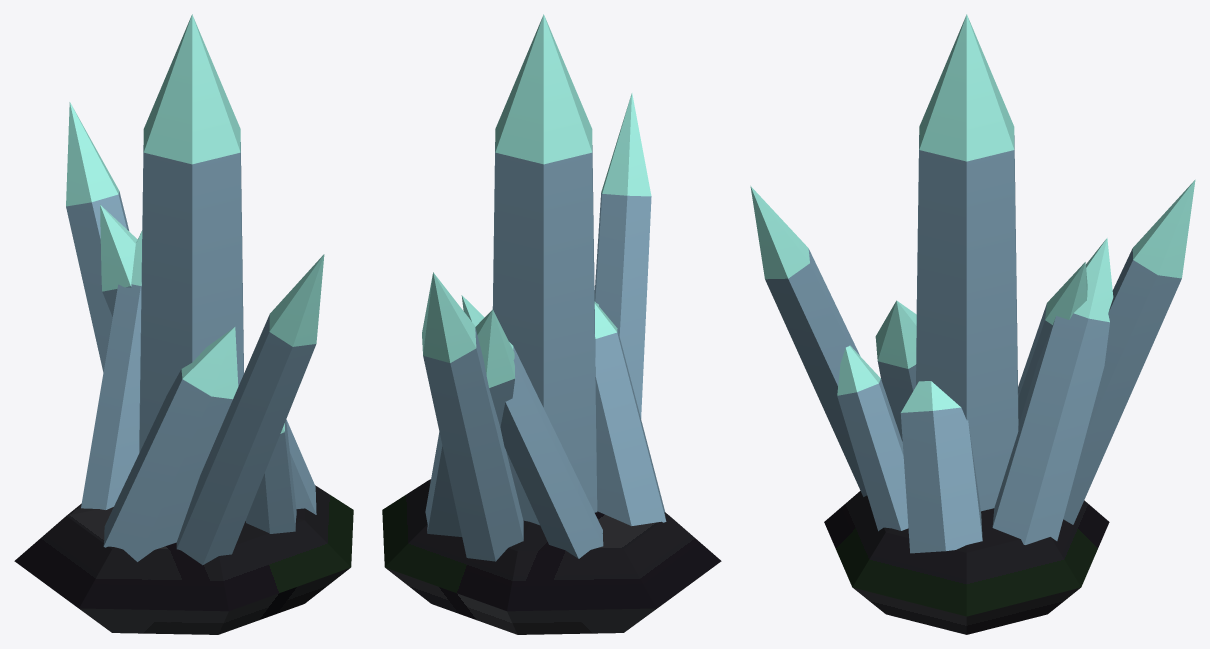
File: ice_crystal_cluster.glb
3 views of the same model, side by side, from view 1: azimuth 30°, elevation 25°; view 2: azimuth 150°, elevation 25°; view 3: azimuth 270°, elevation 25° (orthographic).
Parts seen in each view (by area): view 1: ice_crystal_cluster; view 2: ice_crystal_cluster; view 3: ice_crystal_cluster.
Part boxes in pixels (x1,y1,x2,y2): ice_crystal_cluster: [14, 14, 353, 634]; ice_crystal_cluster: [382, 14, 721, 634]; ice_crystal_cluster: [750, 14, 1195, 634].
Size of the model in its own units: 1.14 by 2.11 by 1.46.
3 materials, 1 textured.
